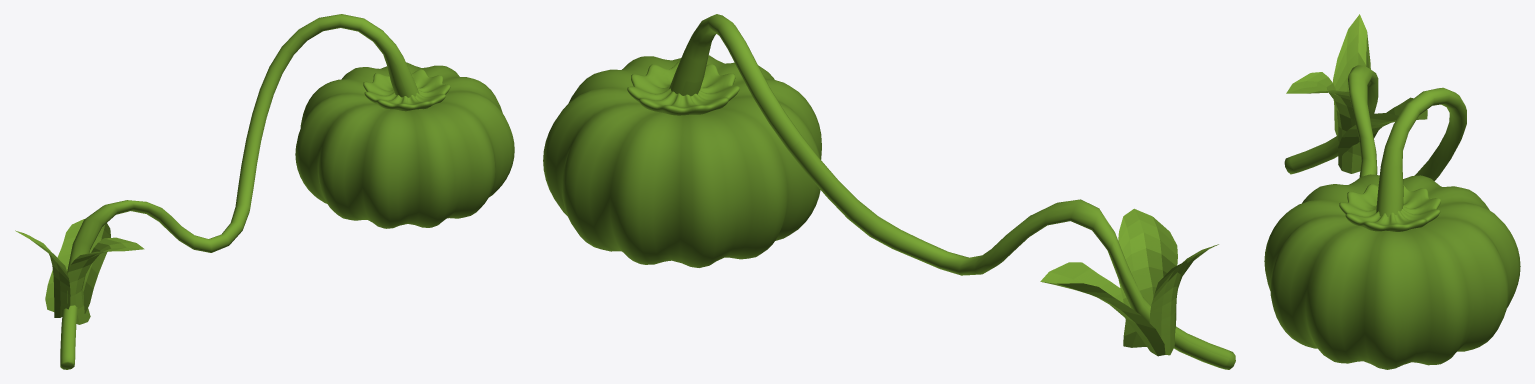
The model's file is Pumpkin_Stage_1.fbx.
The picture shows the model from 3 angles, left to right: view 1: azimuth 30°, elevation 25°; view 2: azimuth 150°, elevation 25°; view 3: azimuth 270°, elevation 25°; orthographic projection. The views are drawn at different scales.
Parts seen in each view (by area): view 1: Pumpkin_3; view 2: Pumpkin_3; view 3: Pumpkin_3.
Part boxes in pixels (<box>): Pumpkin_3: <box>15,14,514,369</box>; Pumpkin_3: <box>543,14,1235,369</box>; Pumpkin_3: <box>1264,14,1520,369</box>.
Size of the model in its own units: 58.55 by 26.02 by 22.26.
